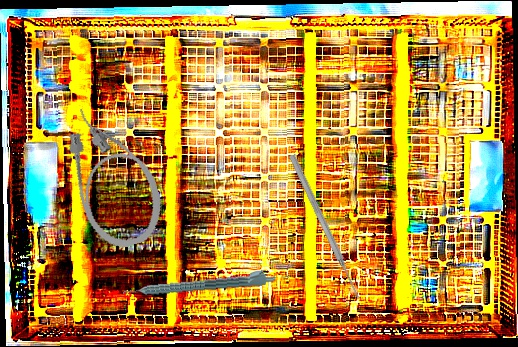Cannula: (55, 94, 172, 256)
Handpiece: (121, 267, 276, 298)
Pusher: (287, 153, 363, 301)
